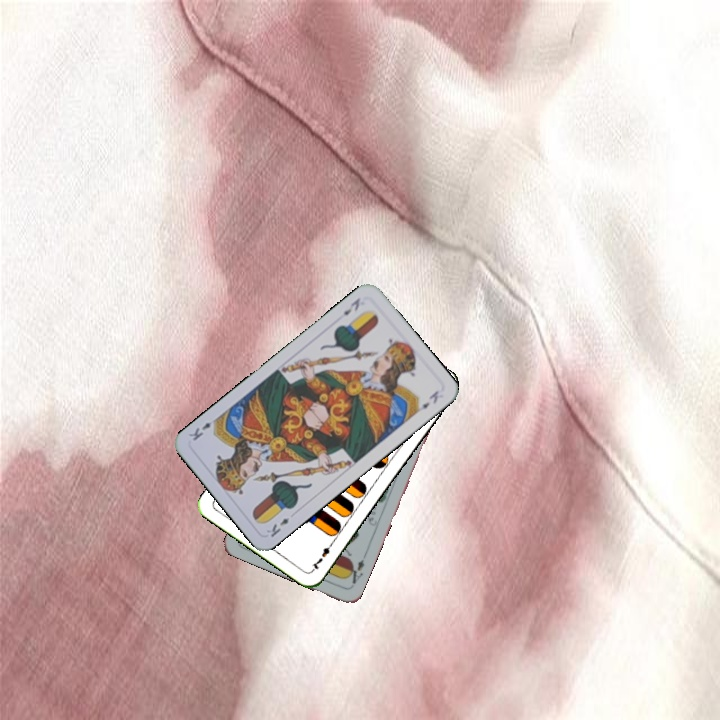E7: (308, 538, 336, 573)
EA: (342, 555, 367, 589)
EK: (262, 514, 292, 540), (339, 294, 363, 318)
